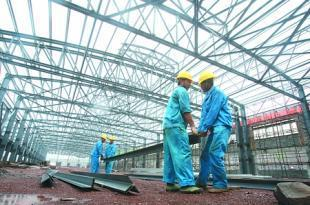helmet: (197, 70, 216, 89), (175, 70, 194, 89)
